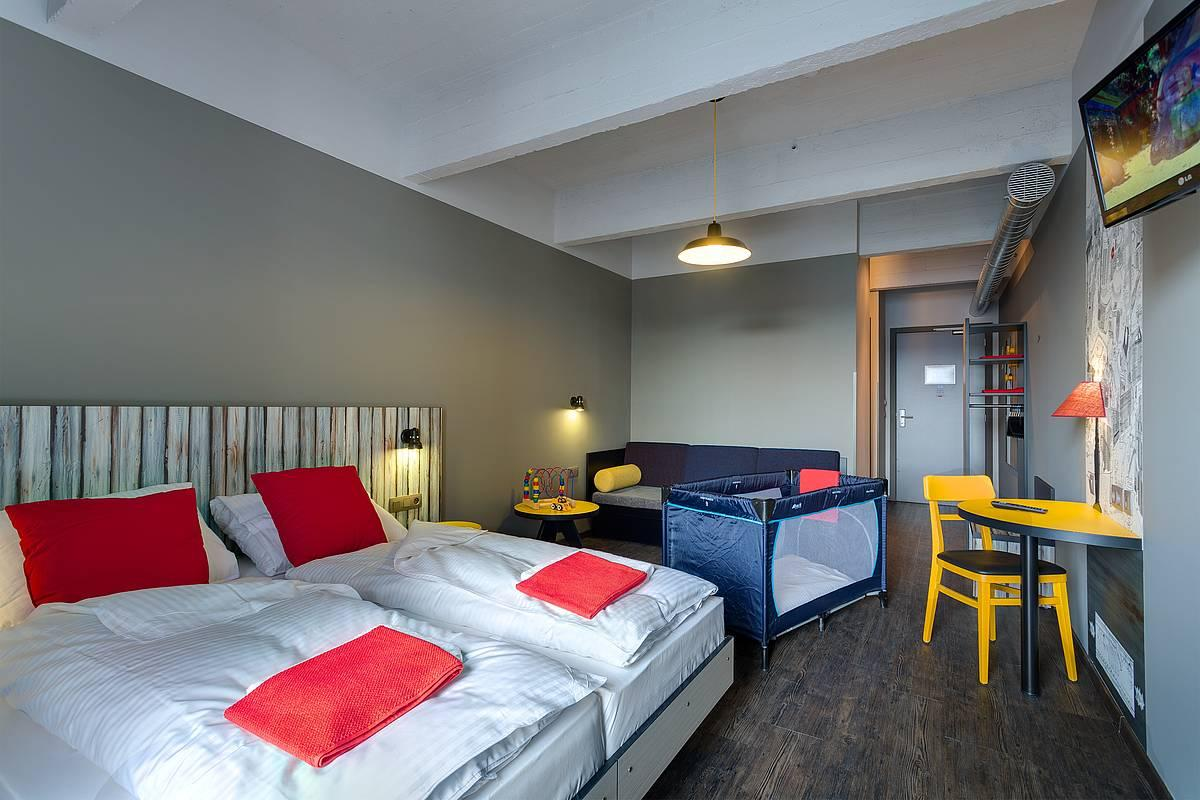bed: (8, 570, 472, 786)
